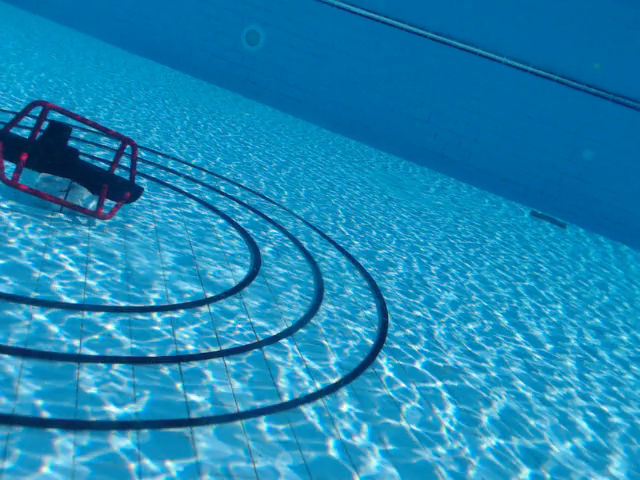submarine: (1, 98, 144, 221)
